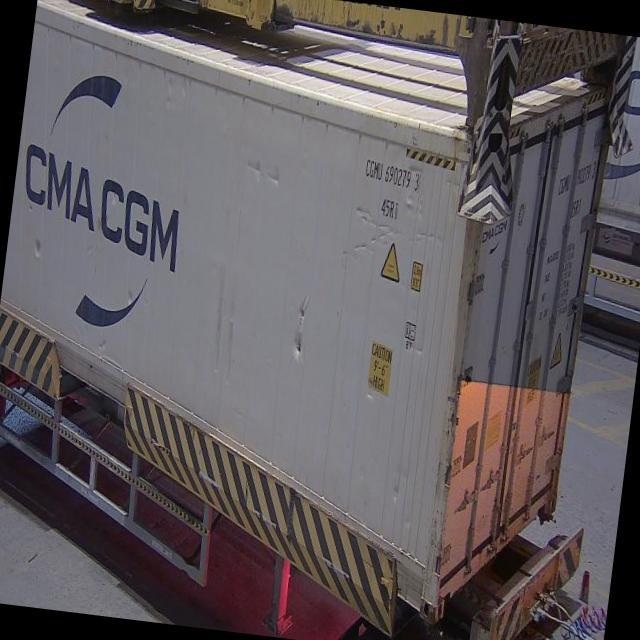dent: (283, 297, 319, 375)
